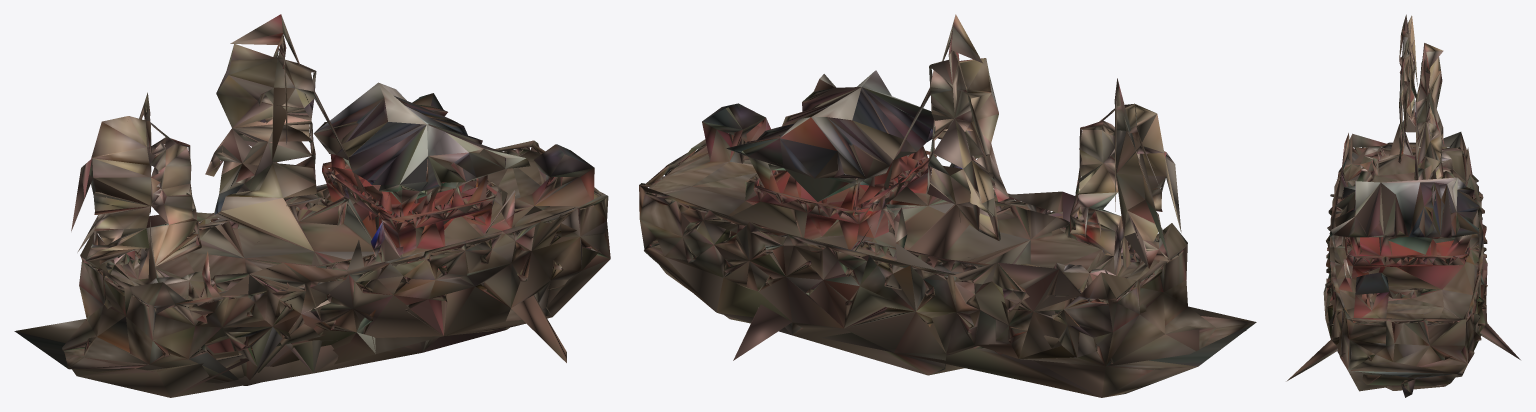
The model's file is panokseon_b_lod2.glb.
3 views of the same model, side by side, from view 1: azimuth 30°, elevation 25°; view 2: azimuth 150°, elevation 25°; view 3: azimuth 270°, elevation 25° (orthographic). The views are drawn at different scales.
Visible parts, largest first — view 1: Mesh_0; view 2: Mesh_0; view 3: Mesh_0.
Boxes of the visible parts, bbox=[...] form: Mesh_0: bbox=[14, 14, 610, 397]; Mesh_0: bbox=[639, 14, 1256, 397]; Mesh_0: bbox=[1286, 14, 1520, 397].
Size of the model in its own units: 1.87 by 1.2 by 0.9036.
1 material, 1 textured.
